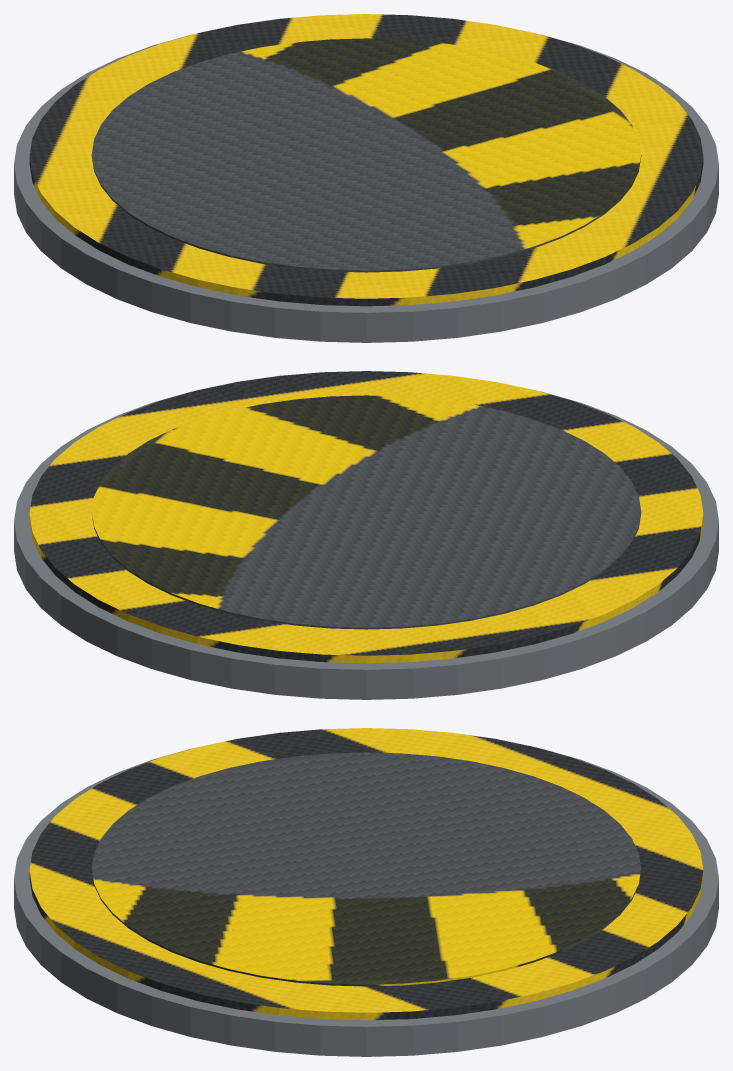
The model's file is floor_center_pad.glb.
3 renders of one model, top to bottom at view 1: azimuth 30°, elevation 25°; view 2: azimuth 150°, elevation 25°; view 3: azimuth 270°, elevation 25°, orthographic.
Parts seen in each view (by area): view 1: Cylinder.002, Cylinder.001, Cylinder; view 2: Cylinder.002, Cylinder.001, Cylinder; view 3: Cylinder.002, Cylinder.001, Cylinder.
Part boxes in pixels (<box>): Cylinder.002: <box>91,38,641,272</box>; Cylinder.001: <box>29,14,703,306</box>; Cylinder: <box>14,34,718,342</box>; Cylinder.002: <box>91,395,641,629</box>; Cylinder.001: <box>29,371,703,663</box>; Cylinder: <box>14,391,718,699</box>; Cylinder.002: <box>91,752,641,986</box>; Cylinder.001: <box>29,728,703,1020</box>; Cylinder: <box>14,748,718,1056</box>.
Bounding box in the file's own units: 6.8 × 0.42 × 6.8.
Materials: 3 (2 with a texture image).
